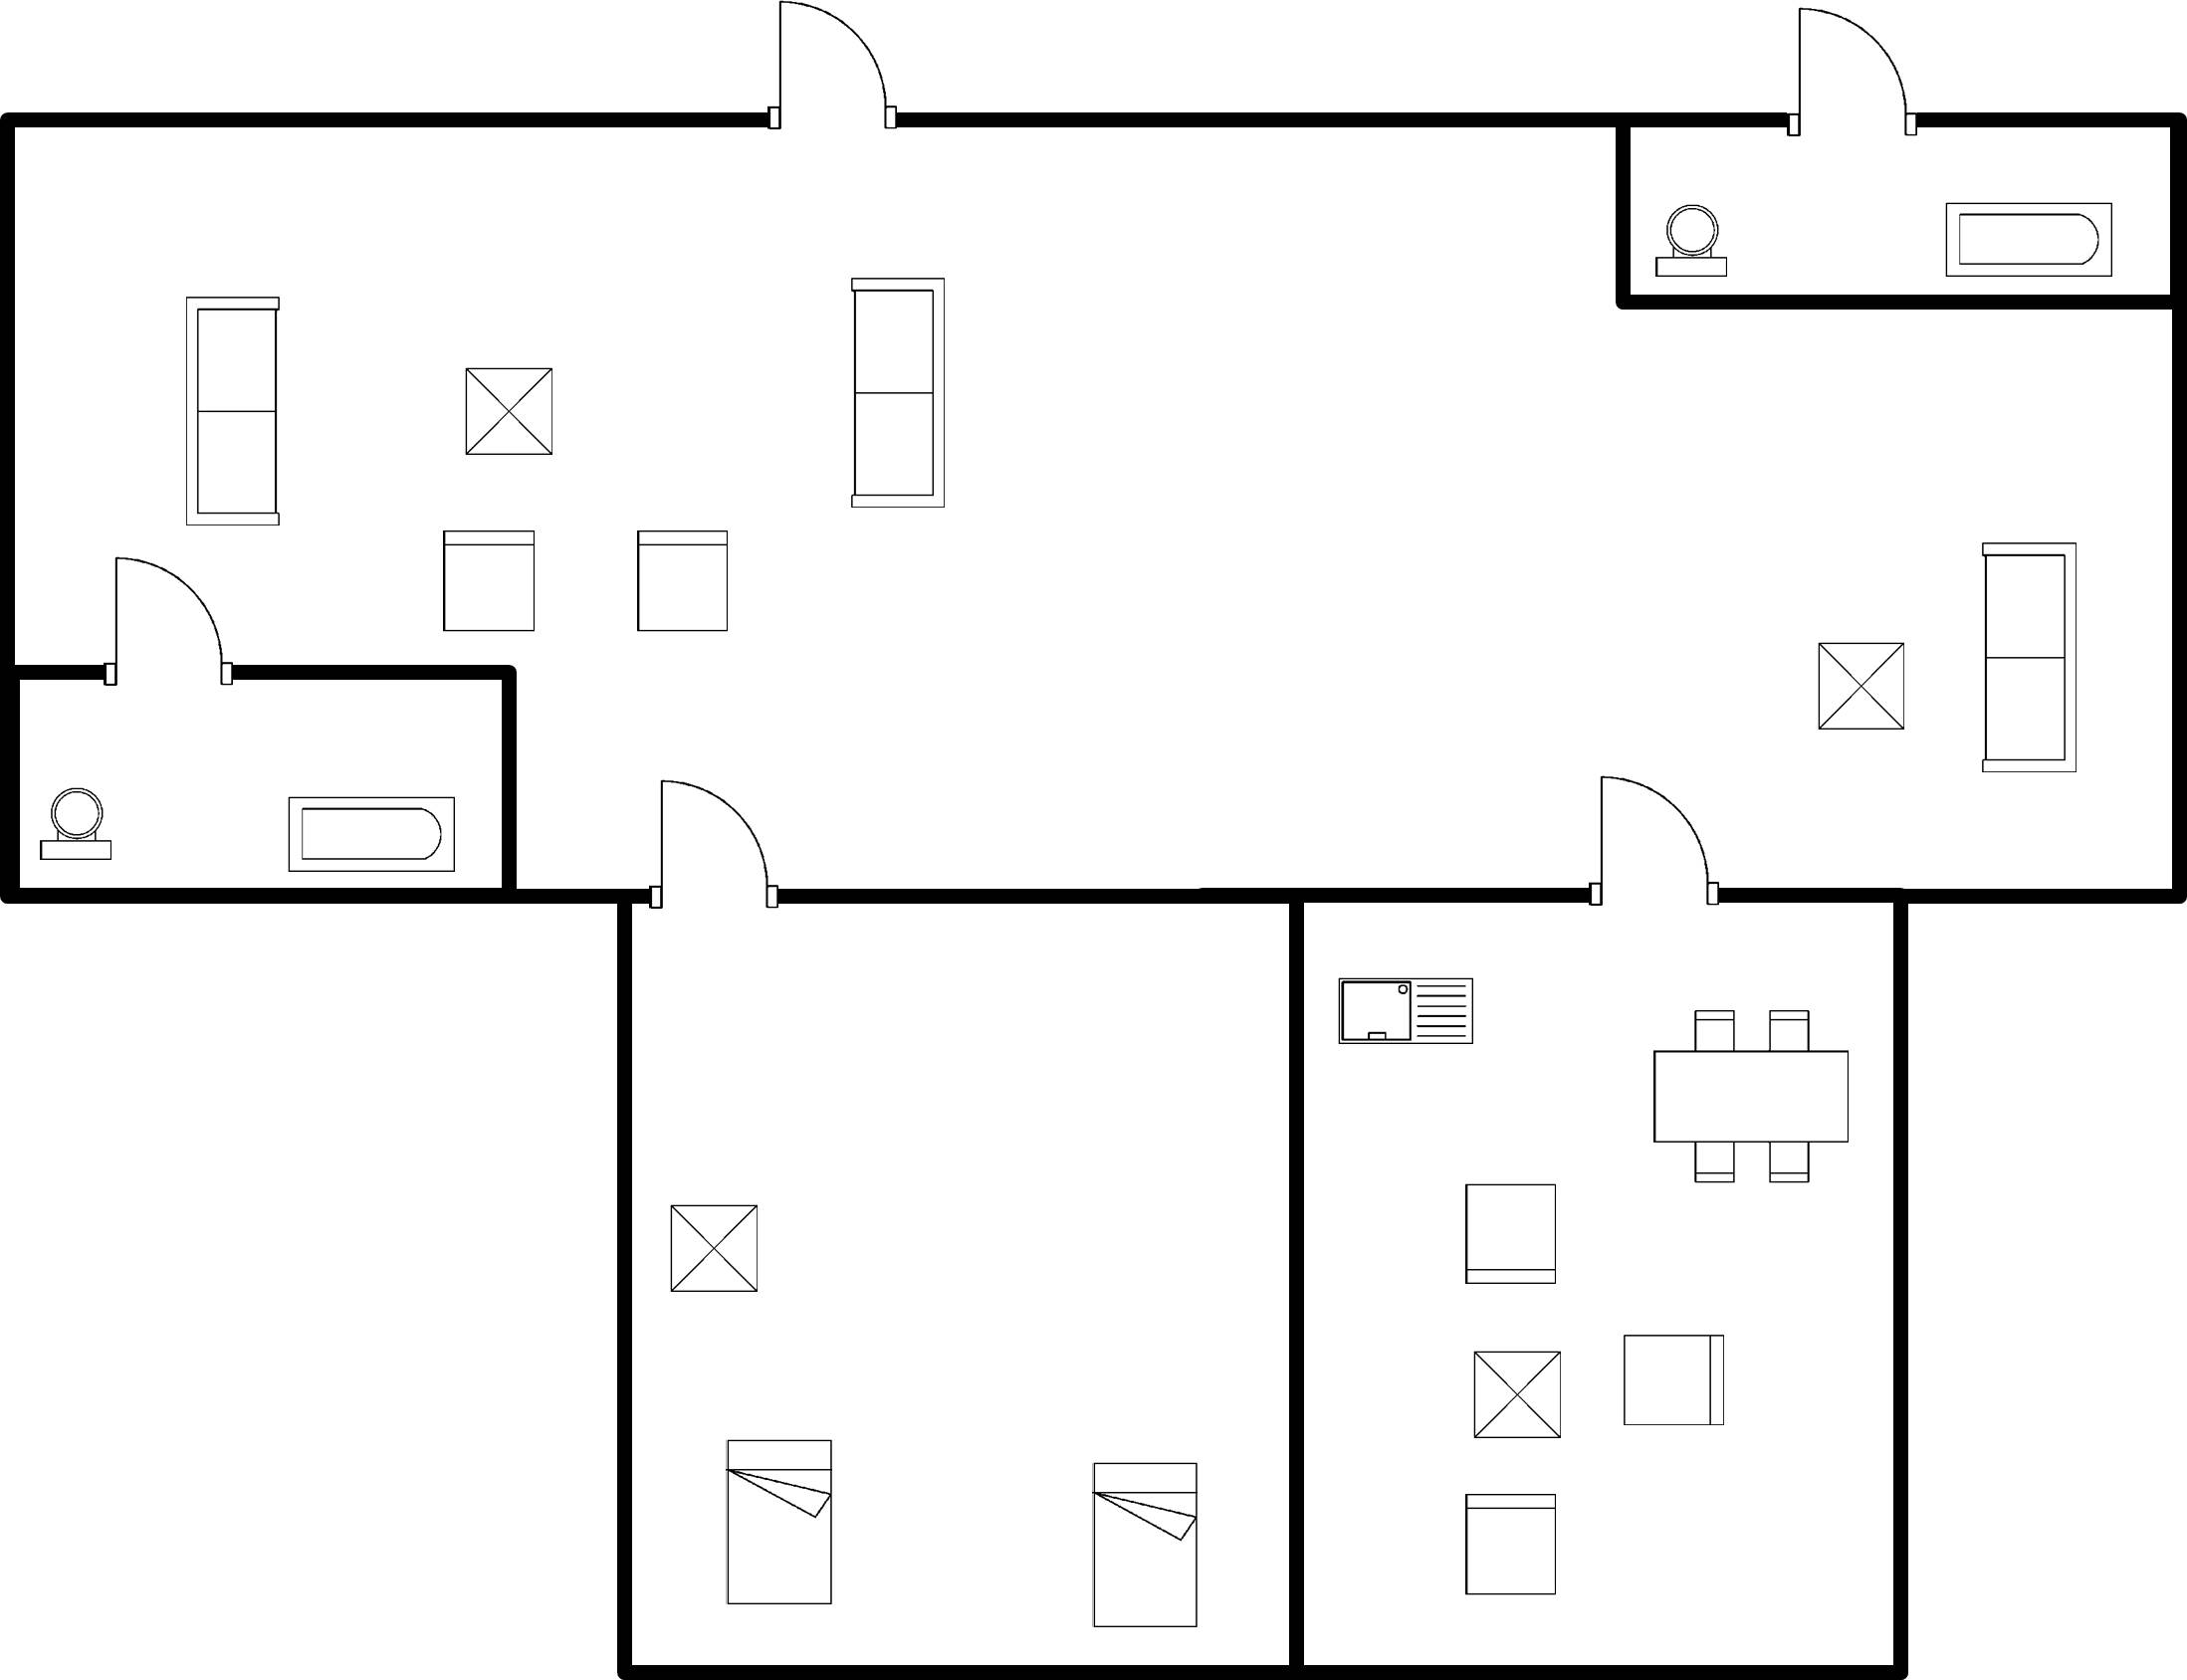bed: (1078, 1450, 1209, 1642), (714, 1429, 846, 1616)
coffee_table: (451, 353, 563, 475), (1801, 633, 1921, 745), (658, 1195, 772, 1303), (1463, 1338, 1571, 1450)
dining_table: (1640, 995, 1862, 1202)
large_sink: (32, 778, 131, 873), (1645, 200, 1735, 290)
large_sofa: (1967, 528, 2087, 787), (173, 287, 296, 536), (838, 267, 957, 521)
sink: (1327, 955, 1492, 1062)
small_sofa: (1443, 1475, 1567, 1610), (627, 521, 748, 649), (1608, 1325, 1735, 1443), (1448, 1172, 1569, 1294), (431, 519, 546, 643)
tub: (278, 783, 469, 881), (1933, 192, 2122, 290)
